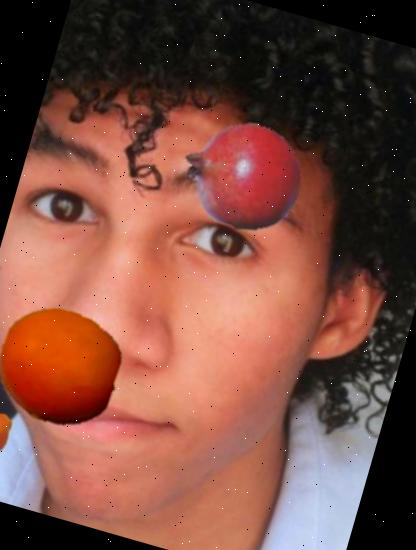Apricot: (0, 289, 134, 442)
Pomegranate: (167, 102, 316, 250)
Tangelo: (0, 392, 21, 474)
